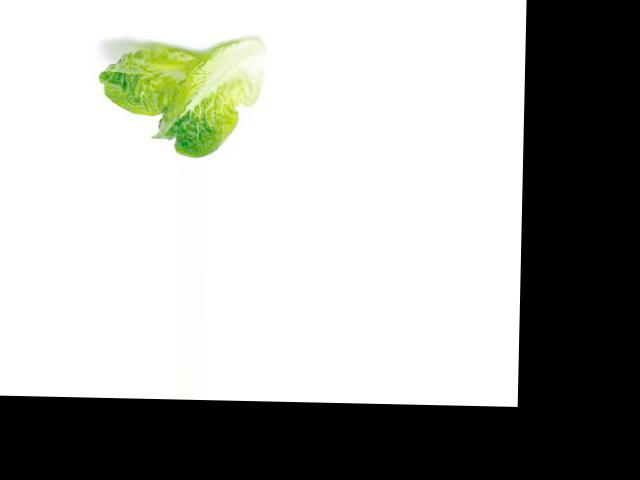lettuce: (100, 35, 265, 154)
